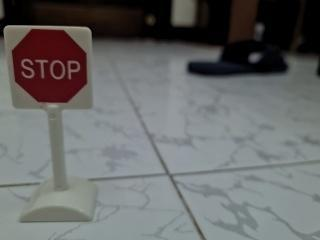stop: (1, 14, 103, 120)
